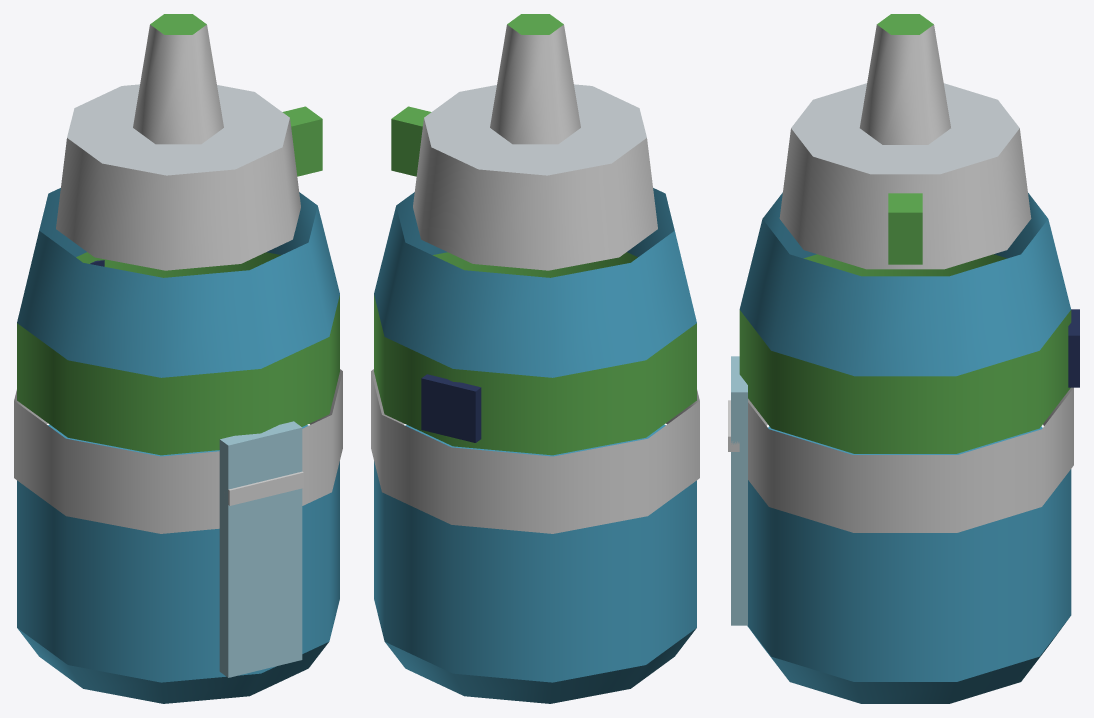
Rendered from wakaba_bottle.glb.
3 renders of one model, left to right at view 1: azimuth 30°, elevation 25°; view 2: azimuth 150°, elevation 25°; view 3: azimuth 270°, elevation 25°, orthographic.
Visible parts, largest first — view 1: bottle_body; view 2: bottle_body; view 3: bottle_body.
Boxes of the visible parts, <box> form: bottle_body: <box>14,14,342,703</box>; bottle_body: <box>371,14,699,703</box>; bottle_body: <box>728,14,1079,703</box>.
Bounding box in the file's own units: 0.1122 × 0.24 × 0.123.
